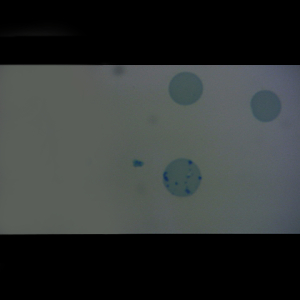aggregate reticulocyte: (162, 157, 203, 198)
erythrocyte: (249, 89, 282, 123)
punctate reticulocyte: (168, 71, 204, 106)
